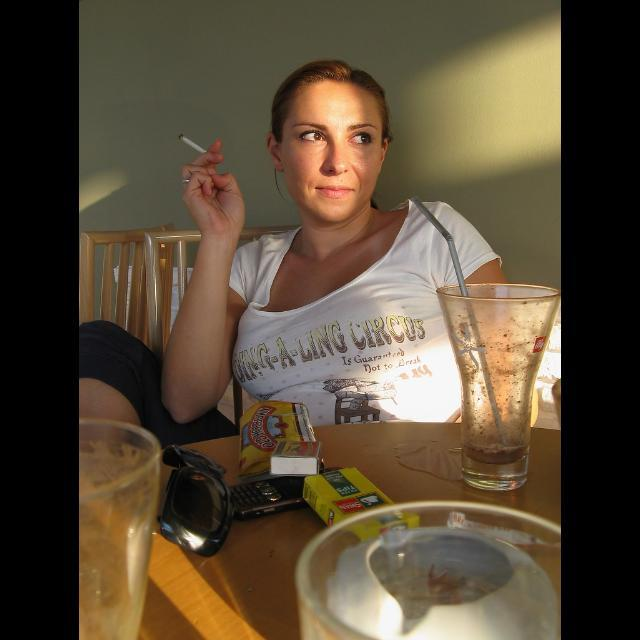rokok: (177, 132, 213, 158)
